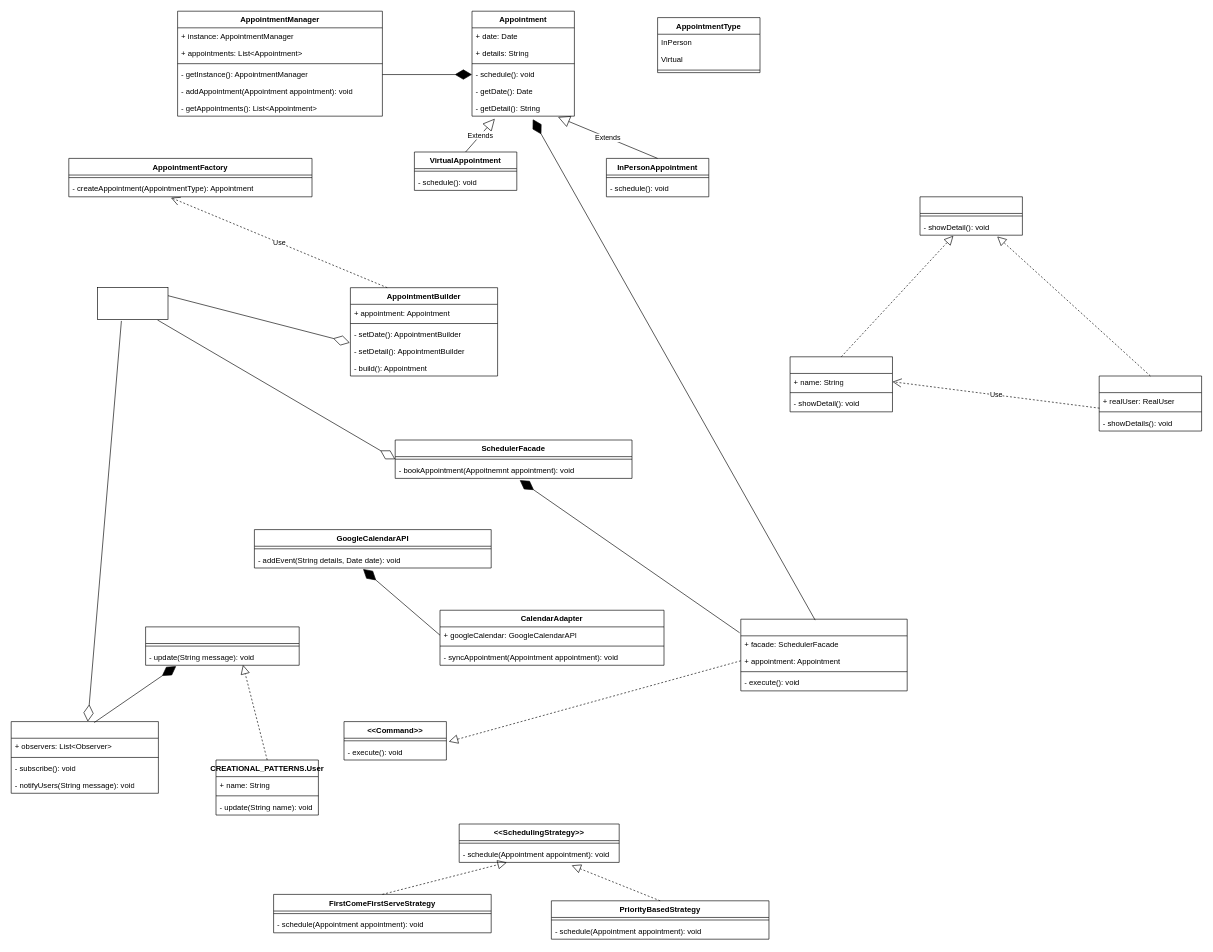
Image size: 1213x952. Some labels were removed from this diagram. The shapes that lost their labels are listed below. From the top down, each one's box as (x1, y1, x2, y2) in pixels, then its label:
(919, 196, 1022, 235): <<IUser>>
(97, 287, 168, 320): Appointment GUI
(789, 356, 892, 412): RealUser
(1099, 375, 1202, 431): UserProxy
(145, 626, 299, 665): <<Observer>>
(740, 619, 907, 691): BookAppointmentCommand
(11, 721, 158, 793): NotificationSystem
